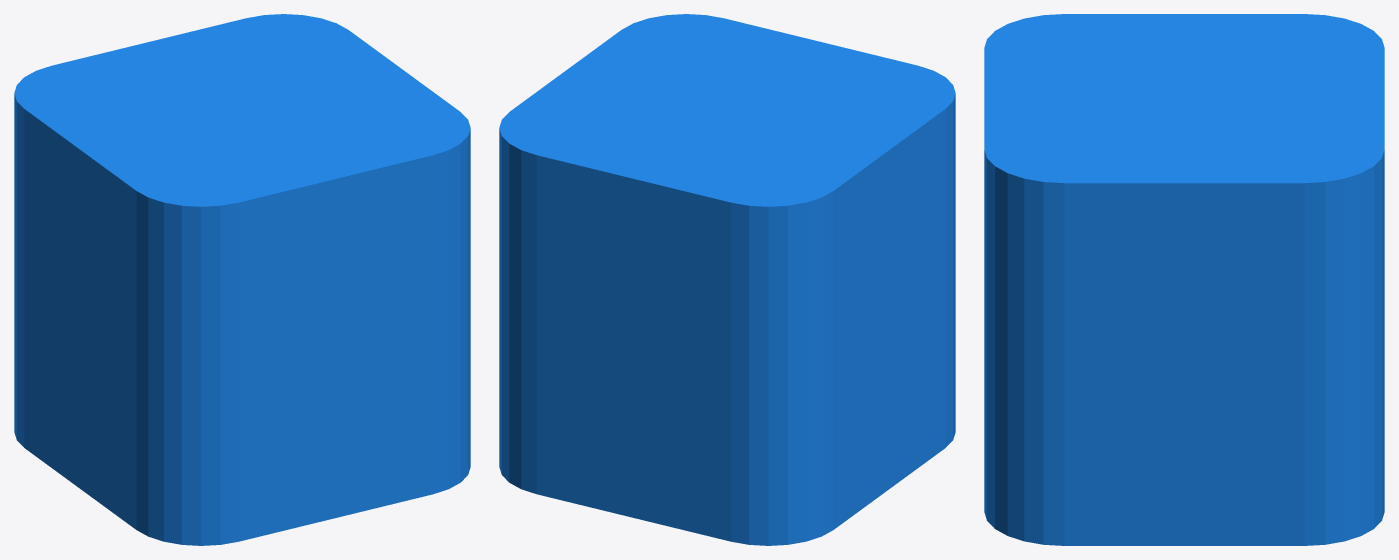
Rendered from Proto_Block_Cube_Rounded_Edges_01.fbx.
The picture shows the model from 3 angles, left to right: view 1: azimuth 30°, elevation 25°; view 2: azimuth 150°, elevation 25°; view 3: azimuth 270°, elevation 25°; orthographic projection. The views are drawn at different scales.
Visible parts, largest first — view 1: Proto_Block_Cube_Rounded_Edges_01; view 2: Proto_Block_Cube_Rounded_Edges_01; view 3: Proto_Block_Cube_Rounded_Edges_01.
Part boxes in pixels (x1,y1,x2,y2): Proto_Block_Cube_Rounded_Edges_01: (14,14,470,545); Proto_Block_Cube_Rounded_Edges_01: (499,14,955,545); Proto_Block_Cube_Rounded_Edges_01: (984,14,1384,545).
Bounding box in the file's own units: 1 × 1 × 1.
